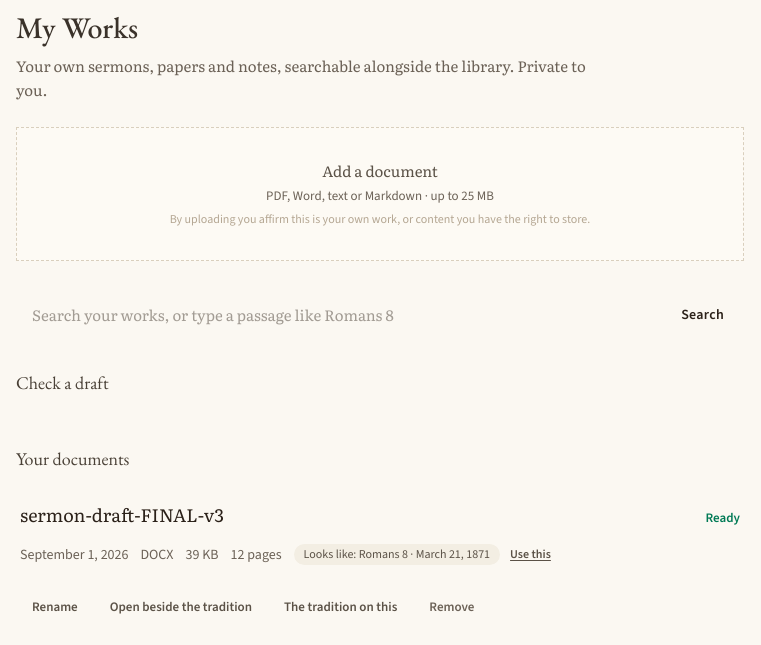
Test: renaming a document in My Works › Escape cancels, and nothing is sent
The width and height of the screenshot is (761, 645).
Click the button with aria-label "Rename sermon-draft-FINAL-v3": (55, 607) [20, 585, 90, 629]
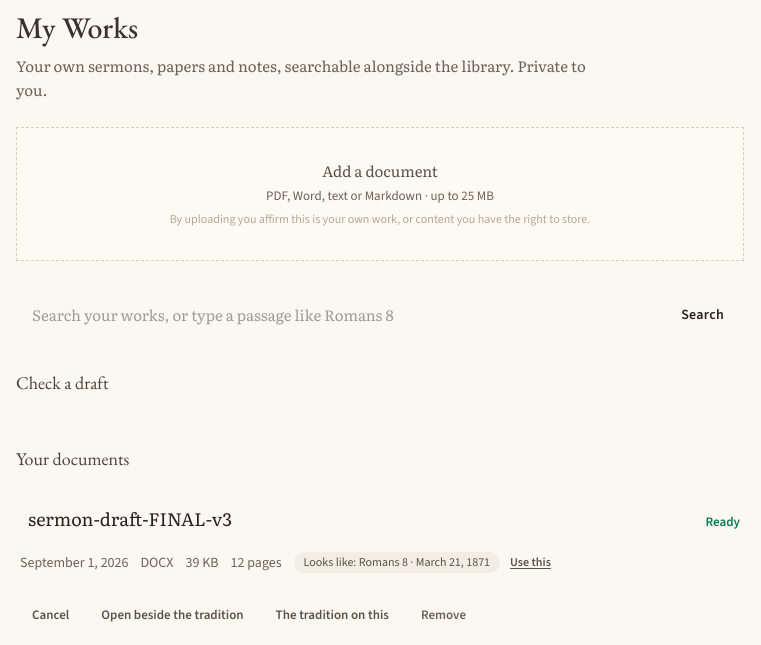
Replace the text in the field named "name for this document" with "a name nobody asked for": (357, 519) [20, 501, 694, 537]
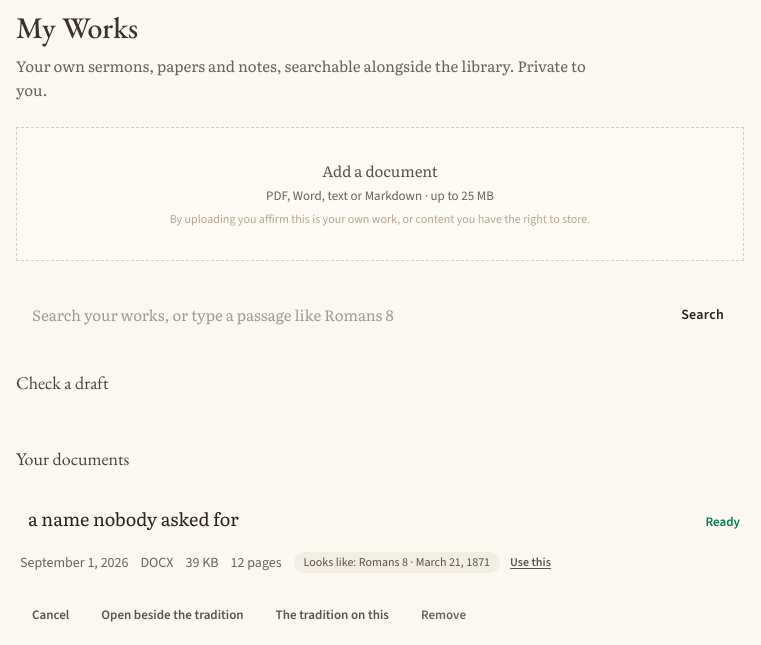
Press Escape in the field named "name for this document", box [20, 501, 694, 537]
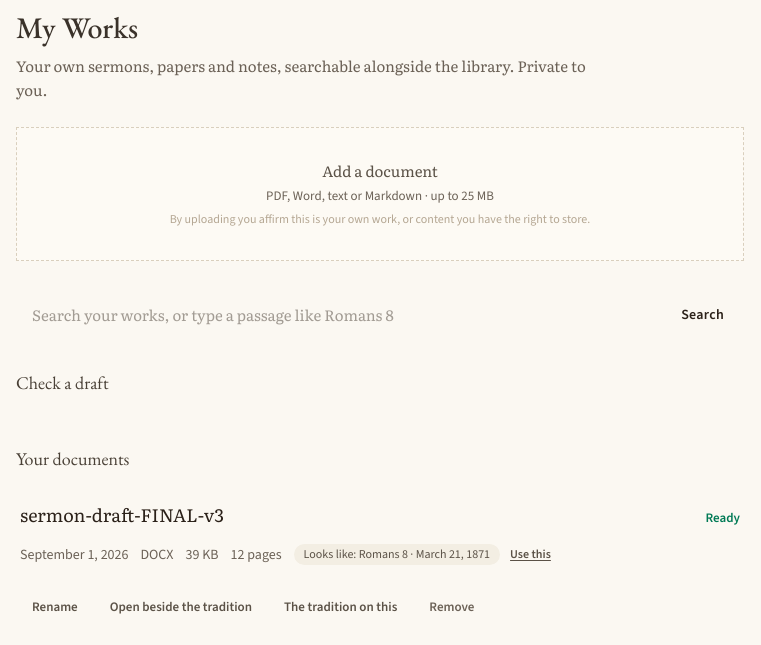
Expected: the text "sermon-draft-FINAL-v3" is shown, [20, 501, 224, 528]
